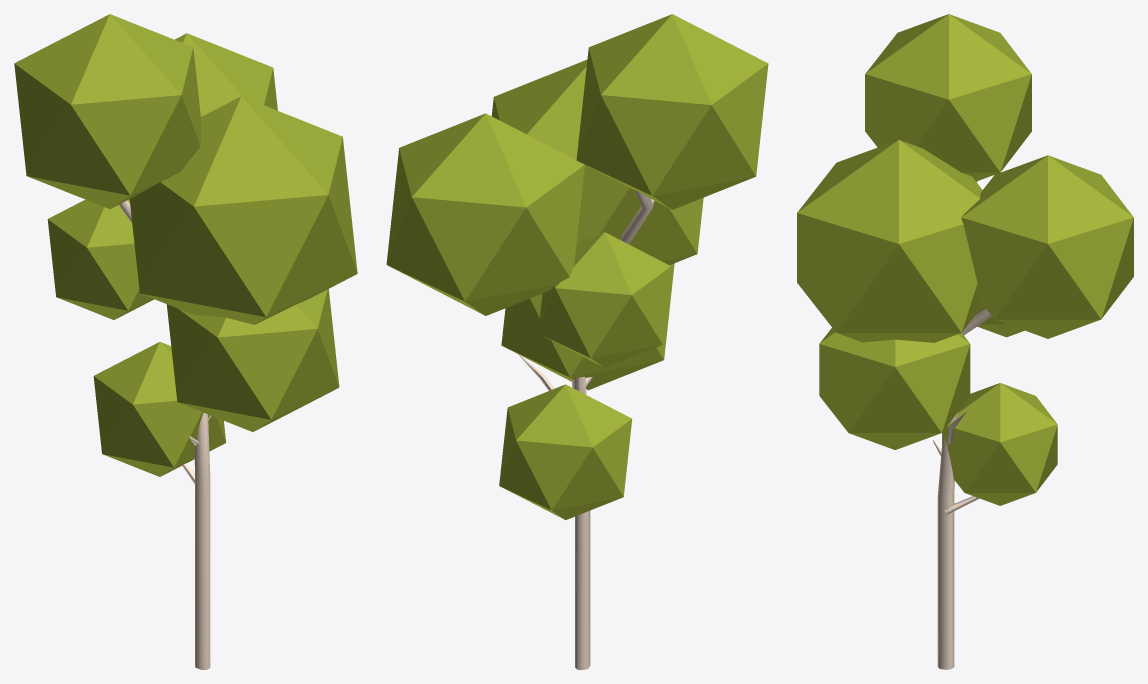
File: birchTreesVisual-compressed.glb
3 views of the same model, side by side, from view 1: azimuth 30°, elevation 25°; view 2: azimuth 150°, elevation 25°; view 3: azimuth 270°, elevation 25° (orthographic). The views are drawn at different scales.
Parts seen in each view (by area): view 1: treeLeaves.001, treeLeaves.002, treeLeaves.004, treeLeaves.005, treeLeaves.019, treeLeaves.003, treeBody; view 2: treeLeaves.003, treeLeaves.002, treeLeaves.005, treeLeaves.019, treeLeaves.001, treeLeaves.004, treeBody; view 3: treeLeaves.001, treeLeaves.003, treeLeaves.002, treeLeaves.004, treeLeaves.005, treeBody, treeLeaves.019.
Boxes of the visible parts, bbox=[...] form: treeLeaves.001: bbox=[129, 96, 357, 324]; treeLeaves.002: bbox=[14, 14, 201, 208]; treeLeaves.004: bbox=[166, 289, 339, 431]; treeLeaves.005: bbox=[93, 342, 226, 476]; treeLeaves.019: bbox=[47, 199, 154, 319]; treeLeaves.003: bbox=[174, 33, 277, 116]; treeBody: bbox=[119, 200, 210, 669]; treeLeaves.003: bbox=[386, 113, 584, 315]; treeLeaves.002: bbox=[576, 14, 768, 209]; treeLeaves.005: bbox=[499, 384, 632, 520]; treeLeaves.019: bbox=[538, 232, 671, 367]; treeLeaves.001: bbox=[491, 60, 703, 265]; treeLeaves.004: bbox=[501, 263, 674, 390]; treeBody: bbox=[517, 190, 654, 669]; treeLeaves.001: bbox=[797, 140, 982, 342]; treeLeaves.003: bbox=[961, 155, 1133, 338]; treeLeaves.002: bbox=[865, 14, 1031, 181]; treeLeaves.004: bbox=[819, 328, 970, 449]; treeLeaves.005: bbox=[942, 383, 1057, 505]; treeBody: bbox=[933, 181, 991, 669]; treeLeaves.019: bbox=[976, 305, 1024, 337].
Size of the model in its own units: 4.25 by 9.09 by 4.53.
Materials: 1 (1 with a texture image).
